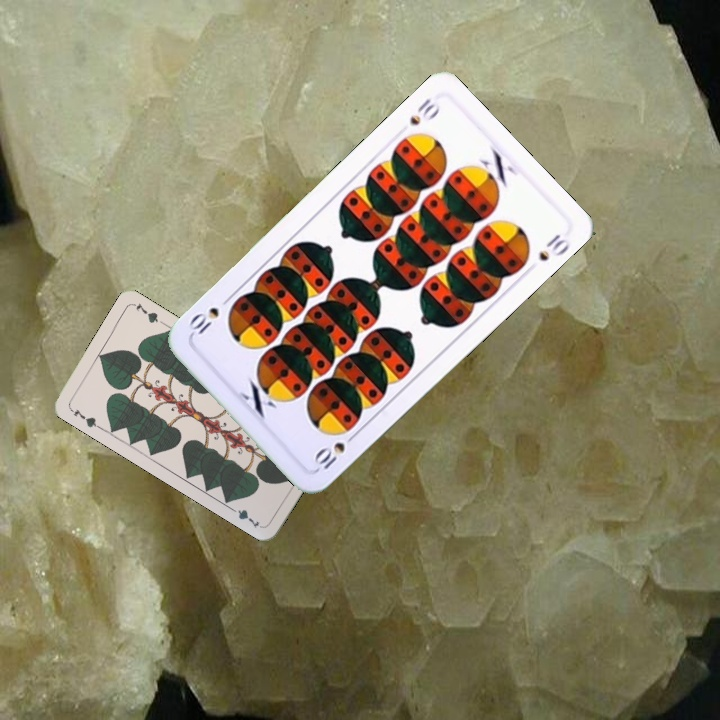G7: (66, 404, 103, 431)
S10: (309, 424, 360, 472), (405, 94, 443, 128)
